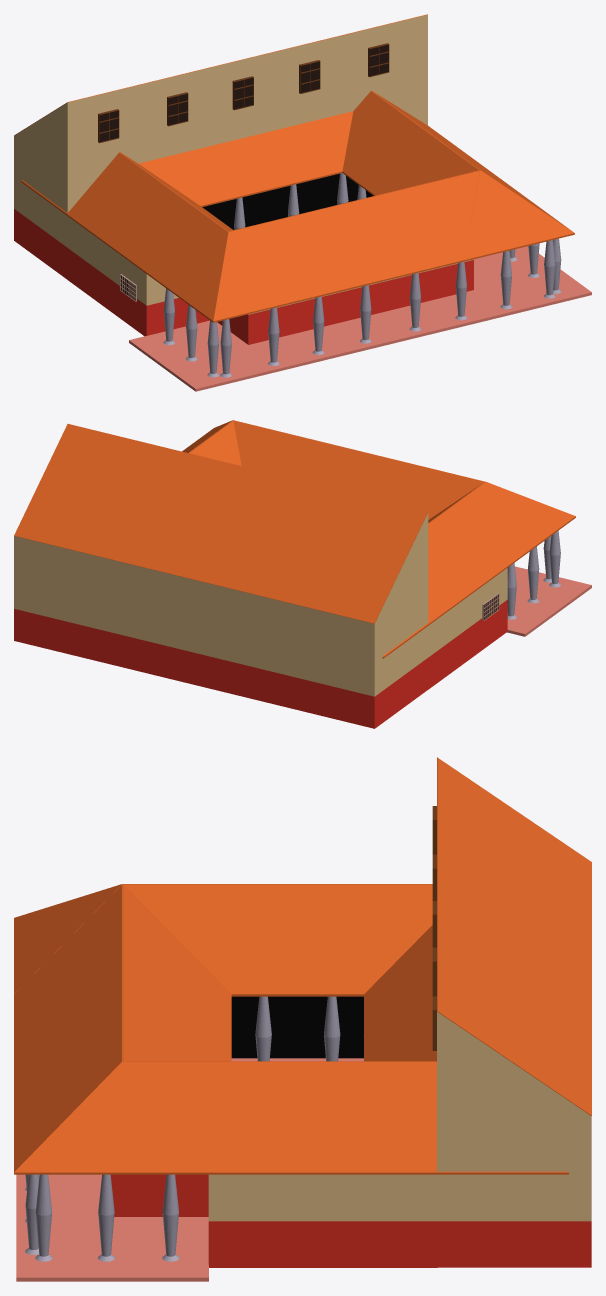
The model's file is Roman9.fbx.
3 renders of one model, top to bottom at view 1: azimuth 30°, elevation 25°; view 2: azimuth 150°, elevation 25°; view 3: azimuth 270°, elevation 25°, orthographic. The views are drawn at different scales.
Visible parts, largest first — view 1: Cube.006, Cube.004, Cube.002, Cube.003, Cube, Cube.001, Cube.005, Cube.007, Cube.009, Cube.012, Cube.011, Cube.008 (+12 smaller); view 2: Cube.006, Cube.004, Cube.002, Cube.001, Cube, Cube.003, Cylinder.001, Cylinder.003, Cylinder.004; view 3: Cube.006, Cube.003, Cube.001, Cube.004, Cube.002, Cube, Cube.005, Cube.007, Cylinder.013, Cylinder.012, Cylinder.014, Cylinder.022 (+2 smaller).
Part boxes in pixels (x1=…): Cube.006: x1=14, y1=14, x2=427, y2=279; Cube.004: x1=21, y1=152, x2=321, y2=322; Cube.002: x1=228, y1=170, x2=479, y2=296; Cube.003: x1=342, y1=90, x2=574, y2=261; Cube: x1=129, y1=246, x2=591, y2=391; Cube.001: x1=67, y1=190, x2=473, y2=344; Cube.005: x1=138, y1=111, x2=353, y2=206; Cube.007: x1=205, y1=282, x2=491, y2=353; Cube.009: x1=167, y1=92, x2=188, y2=126; Cube.012: x1=98, y1=109, x2=119, y2=143; Cube.011: x1=368, y1=43, x2=389, y2=77; Cube.008: x1=232, y1=76, x2=253, y2=110; Cube.006: x1=14, y1=424, x2=428, y2=728; Cube.004: x1=382, y1=481, x2=575, y2=658; Cube.002: x1=233, y1=420, x2=484, y2=519; Cube.001: x1=428, y1=568, x2=507, y2=689; Cube: x1=507, y1=566, x2=591, y2=636; Cube.003: x1=182, y1=420, x2=241, y2=465; Cylinder.001: x1=549, y1=531, x2=560, y2=587; Cylinder.003: x1=527, y1=546, x2=539, y2=603; Cylinder.004: x1=507, y1=563, x2=516, y2=619; Cube.006: x1=437, y1=757, x2=591, y2=1267; Cube.003: x1=14, y1=1061, x2=568, y2=1174; Cube.001: x1=110, y1=996, x2=437, y2=1267; Cube.004: x1=14, y1=884, x2=432, y2=996; Cube.002: x1=14, y1=884, x2=231, y2=1093; Cube: x1=16, y1=1174, x2=208, y2=1281; Cube.005: x1=364, y1=925, x2=436, y2=1061; Cube.007: x1=81, y1=1058, x2=363, y2=1222; Cylinder.013: x1=98, y1=1174, x2=114, y2=1261; Cylinder.012: x1=162, y1=1174, x2=179, y2=1261; Cylinder.014: x1=35, y1=1174, x2=52, y2=1261; Cylinder.022: x1=324, y1=996, x2=340, y2=1061.
Bounding box in the file's own units: 2926 × 1260 × 2561.
